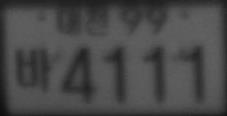1: (140, 45, 173, 102), (179, 45, 212, 101), (100, 45, 131, 102)
4: (61, 46, 97, 104)
9: (119, 5, 144, 34), (145, 5, 168, 35)
대전_H: (56, 3, 108, 37)
바: (14, 47, 52, 94)
